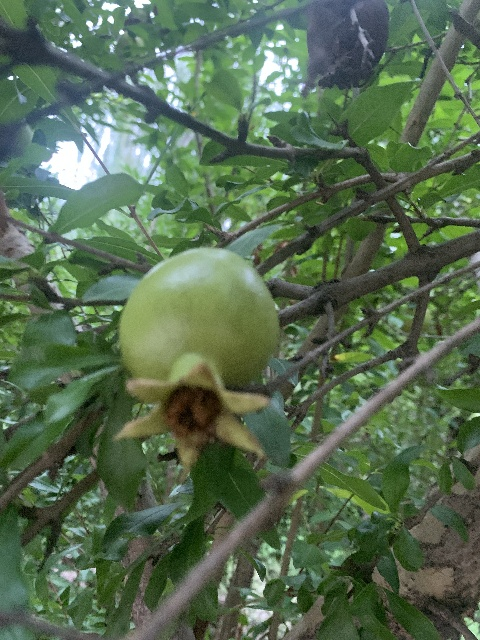mid-growth: (112, 247, 279, 483)
